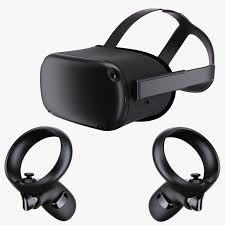oculus: (38, 31, 198, 134)
